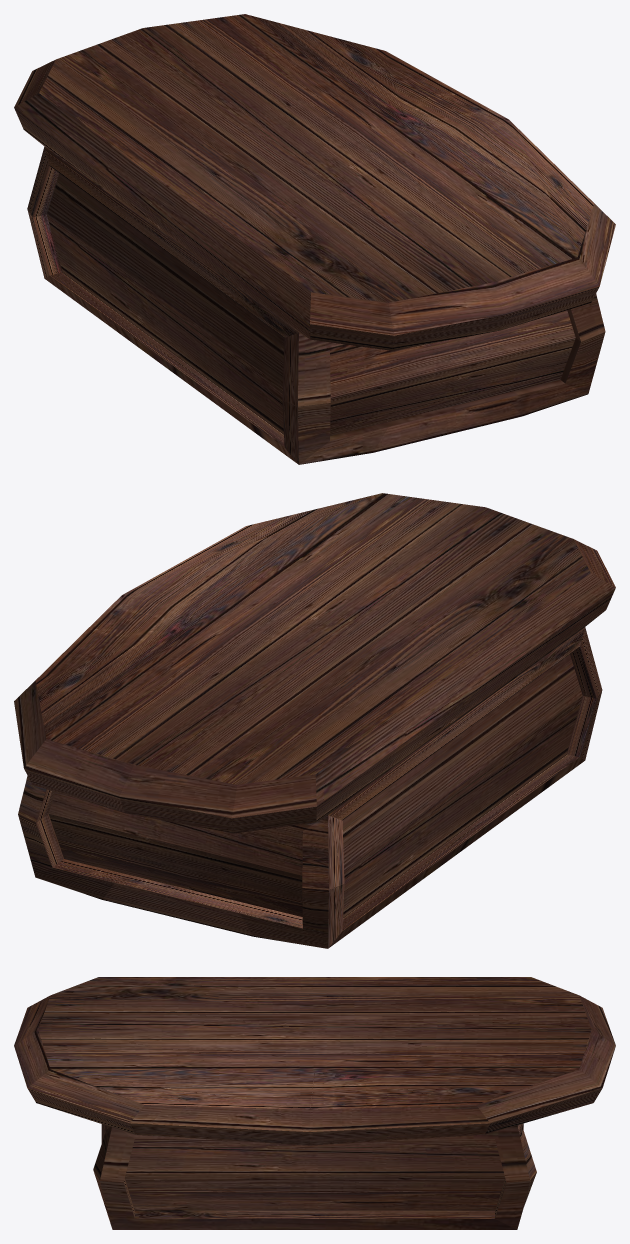
The model's file is table.obj.
3 views of the same model, one above another, from view 1: azimuth 30°, elevation 25°; view 2: azimuth 150°, elevation 25°; view 3: azimuth 270°, elevation 25° (orthographic). The views are drawn at different scales.
Visible parts, largest first — view 1: Cube; view 2: Cube; view 3: Cube.
Part boxes in pixels (bbox=[...]): Cube: bbox=[14, 14, 615, 464]; Cube: bbox=[14, 493, 615, 948]; Cube: bbox=[14, 977, 615, 1229].
Bounding box in the file's own units: 2.97 × 1.43 × 5.35.
